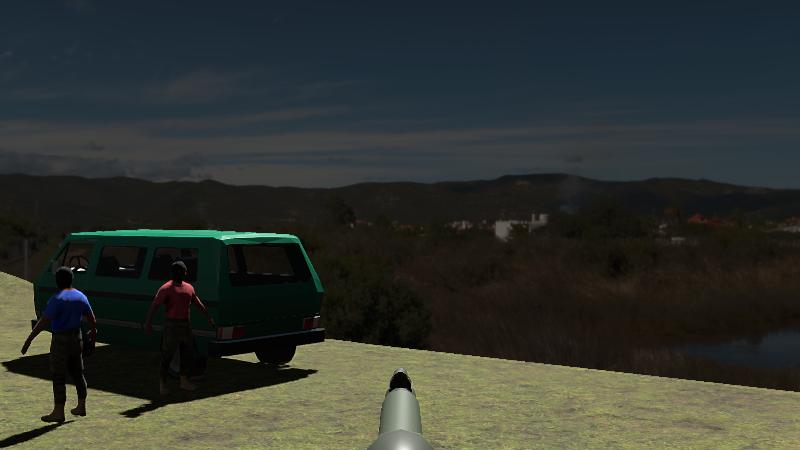Human: (22, 264, 99, 423), (149, 261, 209, 392)
car: (29, 228, 324, 388)
